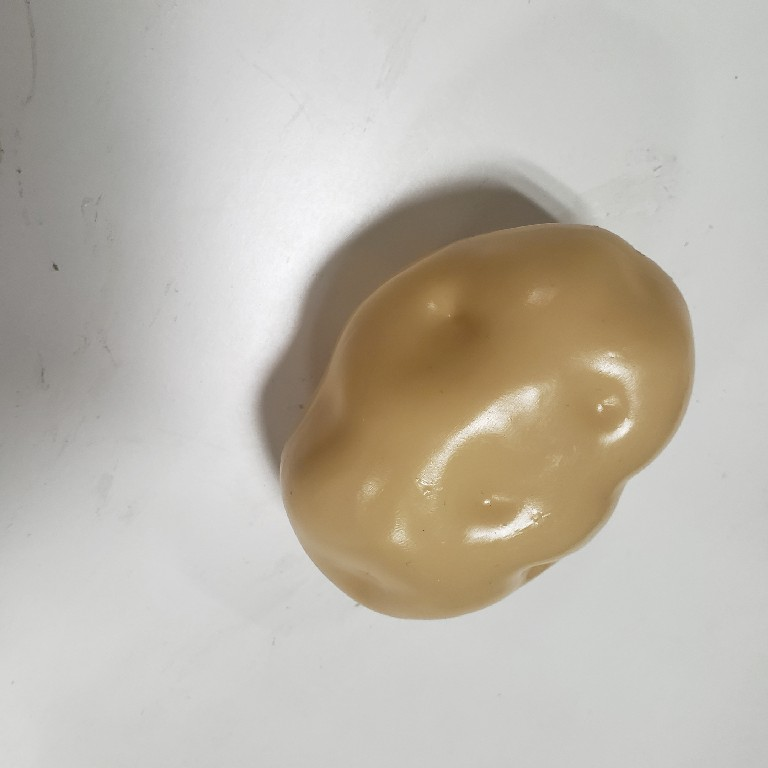fruit_potato: (273, 218, 698, 625)
